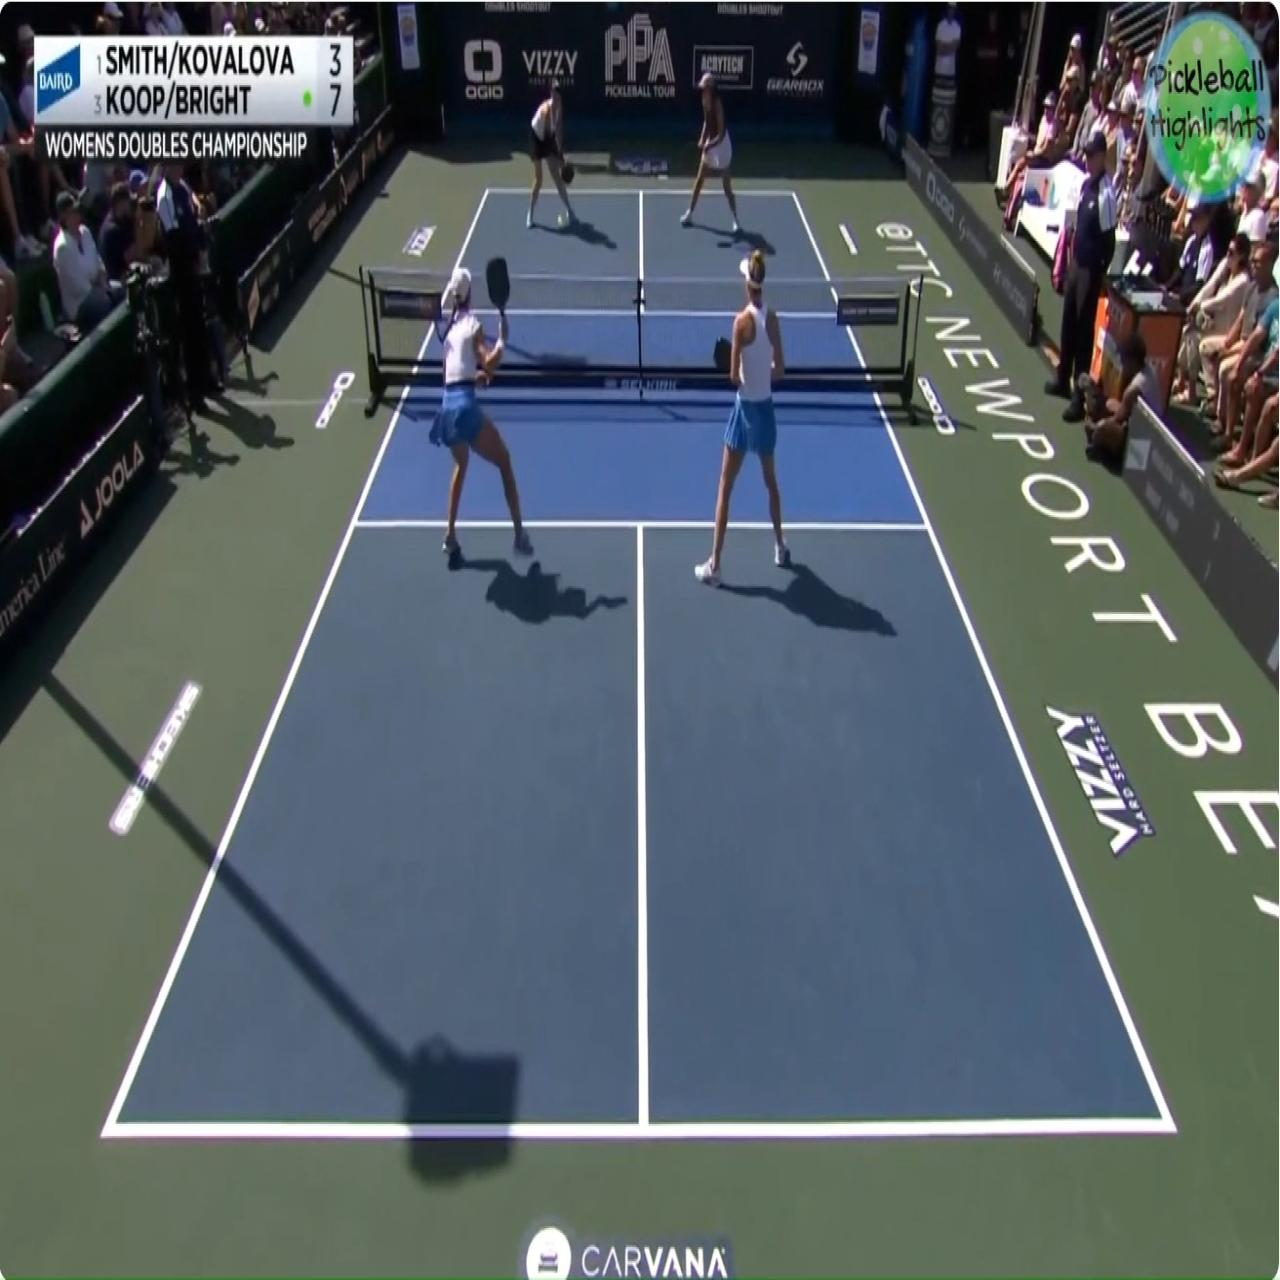pickleball: (557, 215, 563, 225)
